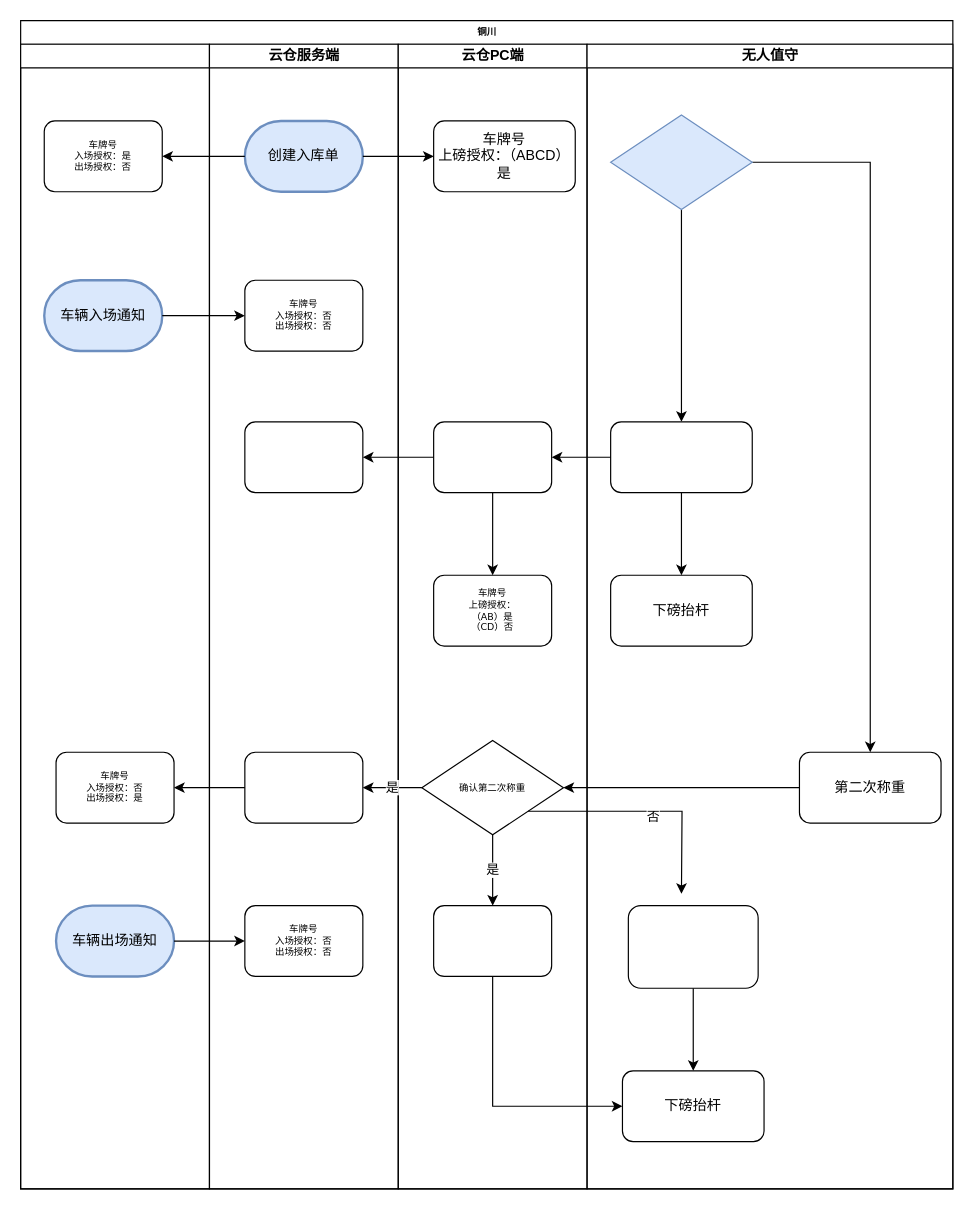
The diagram is 973 pixels wide and 1210 high, and some of its shapes have lost their labels. Each missing label, with the box of its shape:
上磅授权校验: (609, 114, 752, 209)
保存第一次称重: (244, 421, 363, 493)
保存第二次称重: (244, 751, 363, 823)
提交第一次称重: (432, 421, 552, 493)
泊物云: (19, 43, 209, 1189)
第一次称重: (609, 421, 752, 493)
车牌号 上磅授权： （AB）否 （CD）否: (432, 904, 552, 976)
车牌号 删除二次称重数据 上磅授权： （AB）是 （CD）否: (627, 904, 758, 988)
